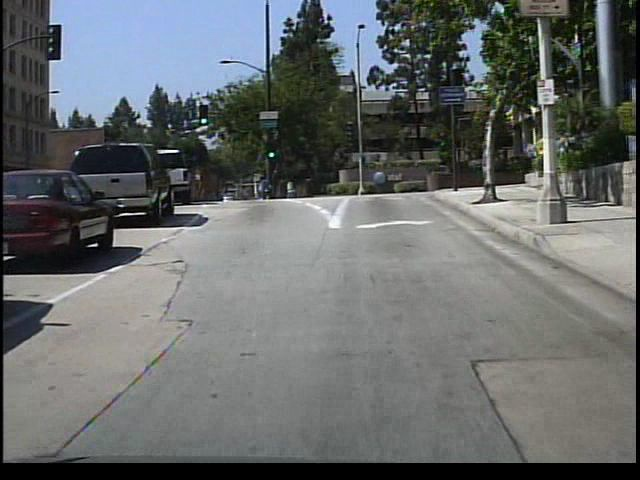person: (255, 169, 274, 202), (283, 174, 298, 200)
